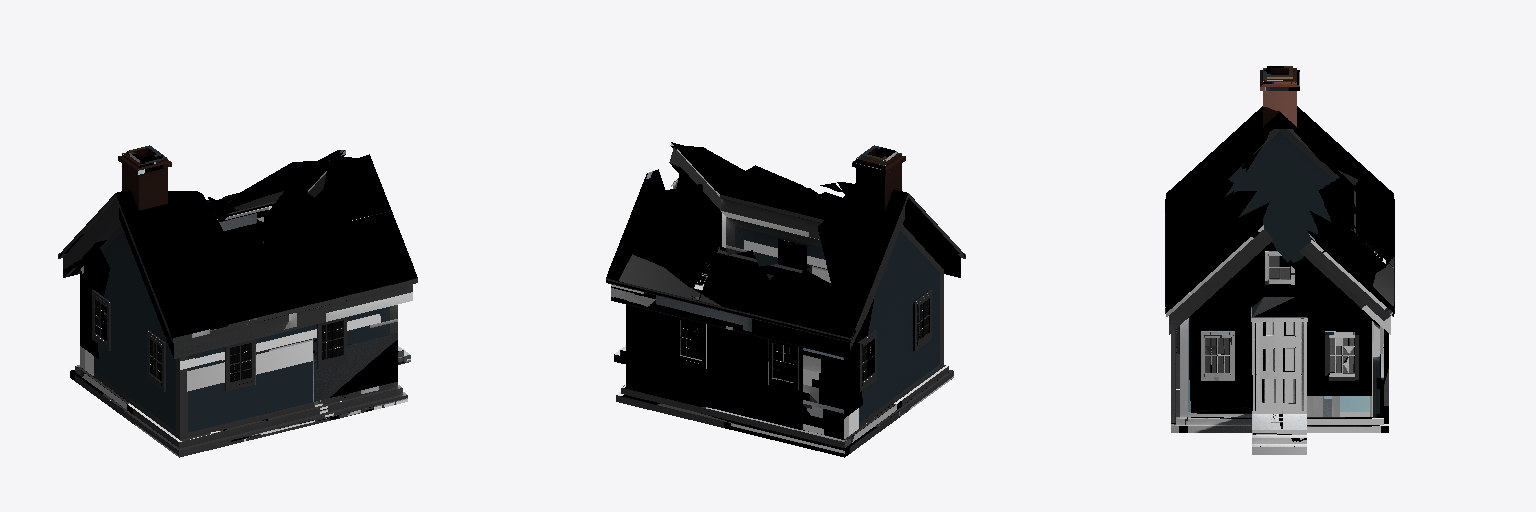
3 renders of one model, left to right at view 1: azimuth 30°, elevation 25°; view 2: azimuth 150°, elevation 25°; view 3: azimuth 270°, elevation 25°, orthographic.
Parts seen in each view (by area): view 1: house.002_house-mesh.002; view 2: house.002_house-mesh.002; view 3: house.002_house-mesh.002.
Boxes of the visible parts, box(x1,y1,x2,y2) form: house.002_house-mesh.002: box(58, 145, 417, 457); house.002_house-mesh.002: box(606, 142, 965, 457); house.002_house-mesh.002: box(1165, 66, 1394, 454).
Size of the model in its own units: 3.24 by 2.86 by 2.29.
Materials: 8 (1 with a texture image).